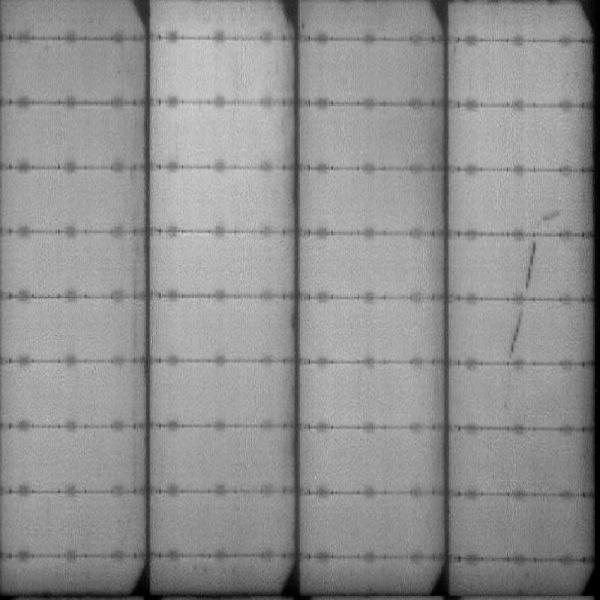scratch: (518, 241, 538, 294), (508, 308, 526, 363)
